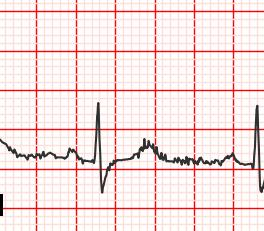ST Depression: (89, 156, 115, 197)
